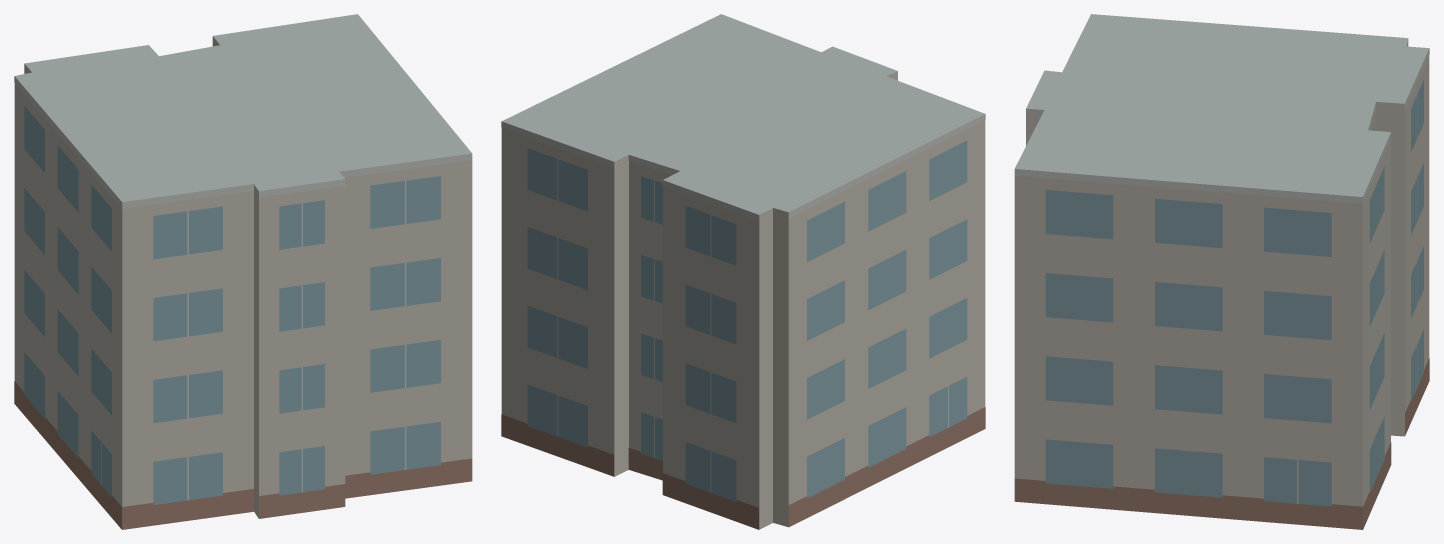
File: survey-upis-32960943.glb
3 renders of one model, left to right at view 1: azimuth 30°, elevation 25°; view 2: azimuth 150°, elevation 25°; view 3: azimuth 270°, elevation 25°, orthographic. The views are drawn at different scales.
Parts seen in each view (by area): view 1: survey-upis-32960943.tmp; view 2: survey-upis-32960943.tmp; view 3: survey-upis-32960943.tmp.
Part boxes in pixels (bbox=[...]): survey-upis-32960943.tmp: bbox=[14, 14, 472, 529]; survey-upis-32960943.tmp: bbox=[501, 14, 985, 529]; survey-upis-32960943.tmp: bbox=[1014, 14, 1429, 529].
Bounding box in the file's own units: 14.23 × 12.05 × 13.63.
